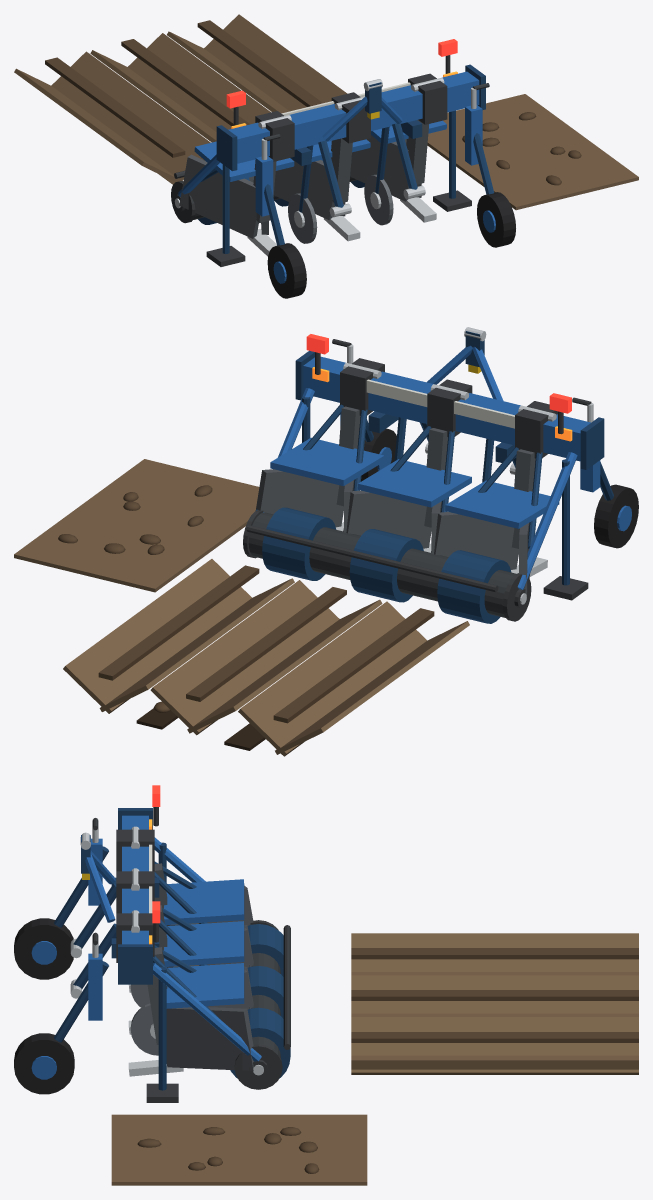
The model's file is ridger.glb.
The picture shows the model from 3 angles, top to bottom: view 1: azimuth 30°, elevation 25°; view 2: azimuth 150°, elevation 25°; view 3: azimuth 270°, elevation 25°; orthographic projection. The views are drawn at different scales.
Visible parts, largest first — view 1: RidgerBody, RidgedFieldProps, ShapingRoller; view 2: RidgedFieldProps, RidgerBody, ShapingRoller; view 3: RidgedFieldProps, RidgerBody, ShapingRoller.
Part boxes in pixels (x1,y1,x2,y2): RidgerBody: (174,39,515,298); RidgedFieldProps: (14,14,638,210); ShapingRoller: (171,139,406,224); RidgedFieldProps: (14,459,469,756); RidgerBody: (246,327,638,608); ShapingRoller: (243,507,531,623); RidgedFieldProps: (111,933,638,1185); RidgerBody: (14,785,290,1102); ShapingRoller: (230,920,290,1089).
Size of the model in its own units: 3.28 by 1.36 by 3.91.
